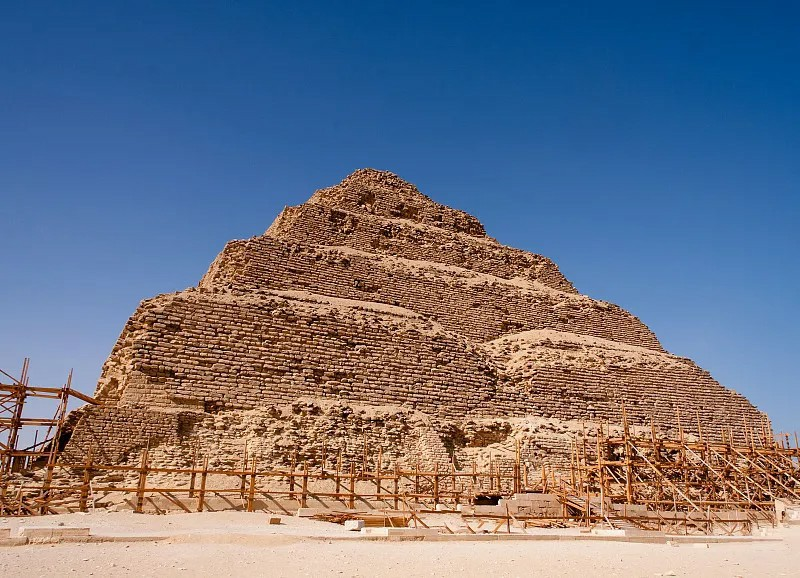Pyramid: (49, 166, 776, 461)
